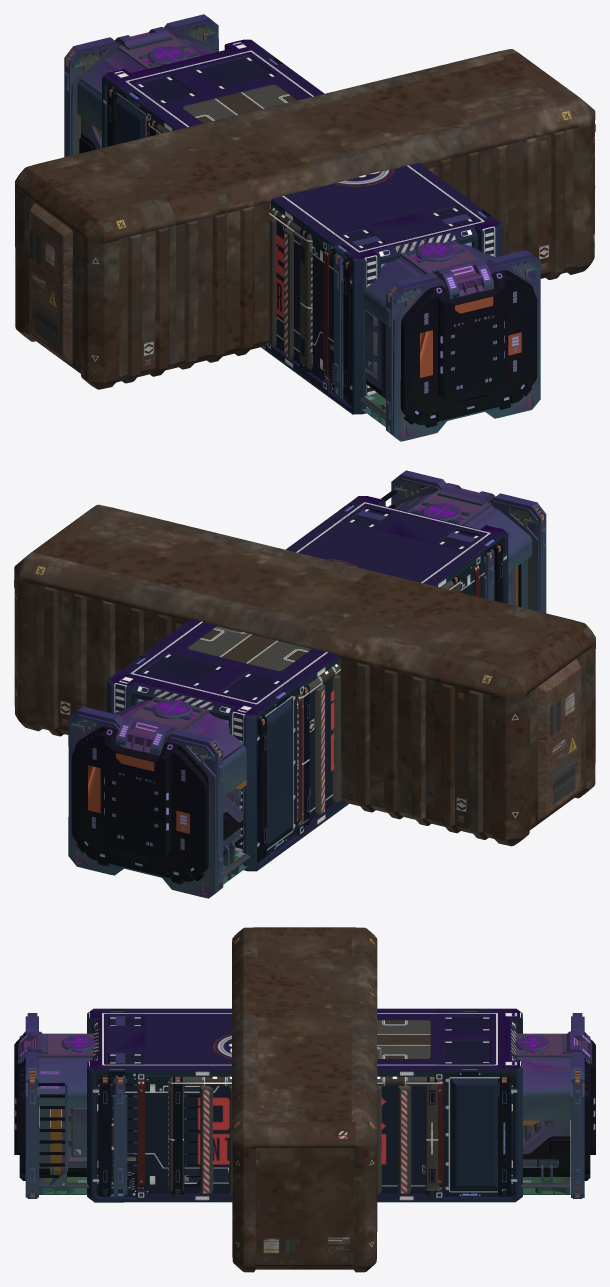
File: fracht.glb
3 views of the same model, one above another, from view 1: azimuth 30°, elevation 25°; view 2: azimuth 150°, elevation 25°; view 3: azimuth 270°, elevation 25° (orthographic). The views are drawn at different scales.
Visible parts, largest first — view 1: prop_fracht_hurston_freight_container_a, prop_fracht_cargo_multipurpose_1_025x025x1_a, prop_fracht_storage_container_1_025x075x025_b, prop_fracht_shipping_container_1_025x05x025_a, prop_fracht_cargo_multipurpose_1_025x025x075_a; view 2: prop_fracht_hurston_freight_container_a, prop_fracht_cargo_multipurpose_1_025x025x1_a, prop_fracht_storage_container_1_025x075x025_b, prop_fracht_shipping_container_1_025x05x025_a, prop_fracht_cargo_multipurpose_1_025x025x075_a, prop_fracht_cargo_multipurpose_1_025x025x05_a; view 3: prop_fracht_hurston_freight_container_a, prop_fracht_storage_container_1_025x075x025_b, prop_fracht_cargo_multipurpose_1_025x025x1_a, prop_fracht_shipping_container_1_025x05x025_a, prop_fracht_cargo_multipurpose_1_025x025x075_a, prop_fracht_cargo_multipurpose_1_025x025x05_a.
Boxes of the visible parts, box(x1,y1,x2,y2) form: prop_fracht_hurston_freight_container_a: box(15, 49, 595, 389); prop_fracht_cargo_multipurpose_1_025x025x1_a: box(64, 14, 540, 441); prop_fracht_storage_container_1_025x075x025_b: box(102, 39, 502, 414); prop_fracht_shipping_container_1_025x05x025_a: box(149, 85, 312, 370); prop_fracht_cargo_multipurpose_1_025x025x075_a: box(107, 85, 474, 405); prop_fracht_hurston_freight_container_a: box(14, 504, 595, 846); prop_fracht_cargo_multipurpose_1_025x025x1_a: box(68, 470, 546, 898); prop_fracht_storage_container_1_025x075x025_b: box(107, 496, 508, 871); prop_fracht_shipping_container_1_025x05x025_a: box(188, 579, 460, 825); prop_fracht_cargo_multipurpose_1_025x025x075_a: box(138, 507, 502, 862); prop_fracht_cargo_multipurpose_1_025x025x05_a: box(301, 575, 459, 828); prop_fracht_hurston_freight_container_a: box(232, 927, 377, 1272); prop_fracht_storage_container_1_025x075x025_b: box(87, 1008, 522, 1202); prop_fracht_cargo_multipurpose_1_025x025x1_a: box(14, 1013, 595, 1198); prop_fracht_shipping_container_1_025x05x025_a: box(168, 1020, 441, 1194); prop_fracht_cargo_multipurpose_1_025x025x075_a: box(98, 1016, 511, 1196); prop_fracht_cargo_multipurpose_1_025x025x05_a: box(171, 1076, 436, 1194).
Size of the model in its own units: 8.66 by 2.76 by 10.
60 materials, 50 textured.
